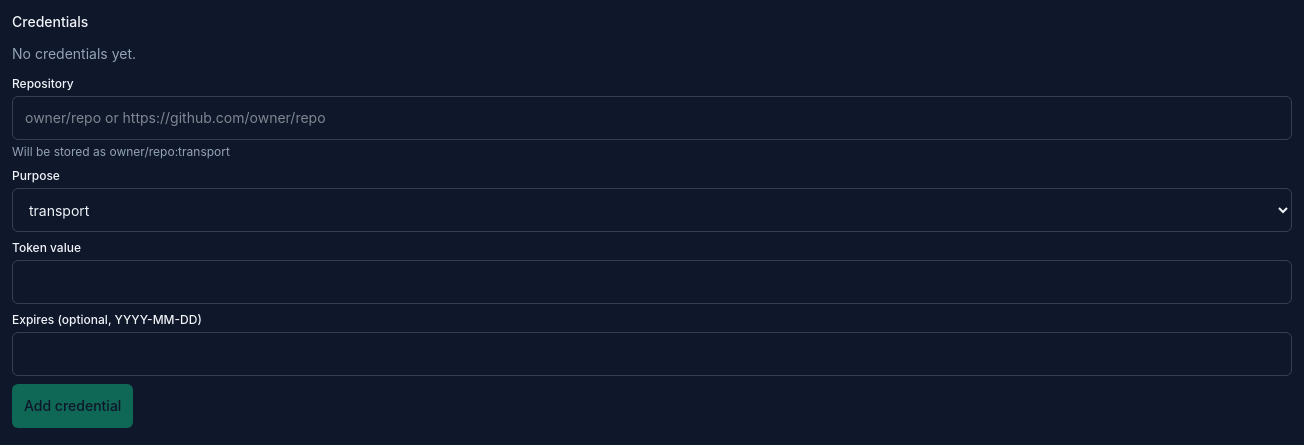
CredentialsSection › previews the record name live as the user types the repository field and switches purpose
The image size is (1304, 445).
Check: the text "No credentials yet." is shown, box x1=12 y1=45 x2=136 y2=62
Check: the message with test id "credential-preview" shows "owner/repo:transport", box x1=110 y1=144 x2=230 y2=159
In the field with test id "credential-engine-input": (652, 118) x1=12 y1=96 x2=1292 y2=140, type "acme/widget"
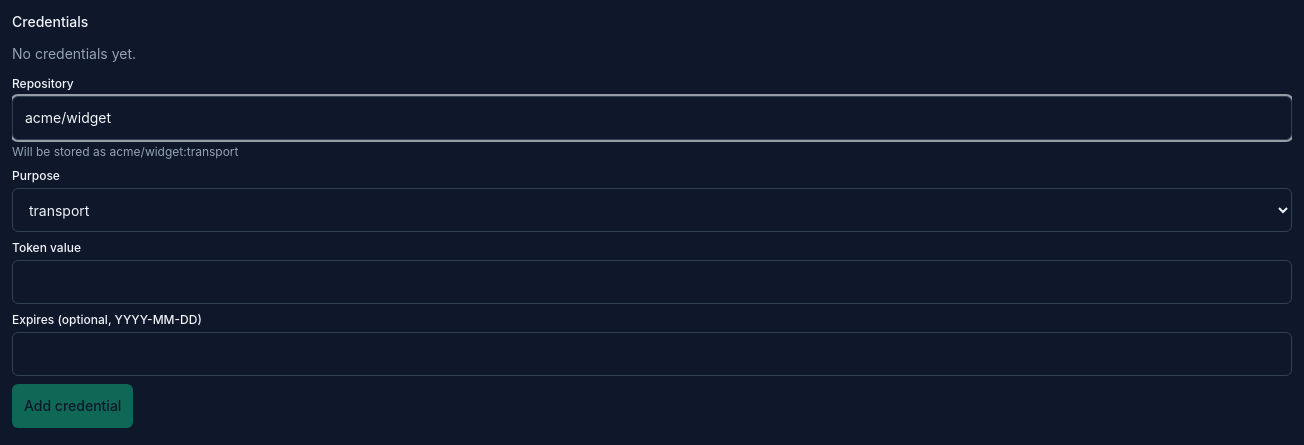
Check: the message with test id "credential-preview" shows "acme/widget:transport", box x1=110 y1=144 x2=238 y2=159
Select "reviewer" in the dropdown with test id "credential-purpose-select": (652, 210) x1=12 y1=188 x2=1292 y2=232
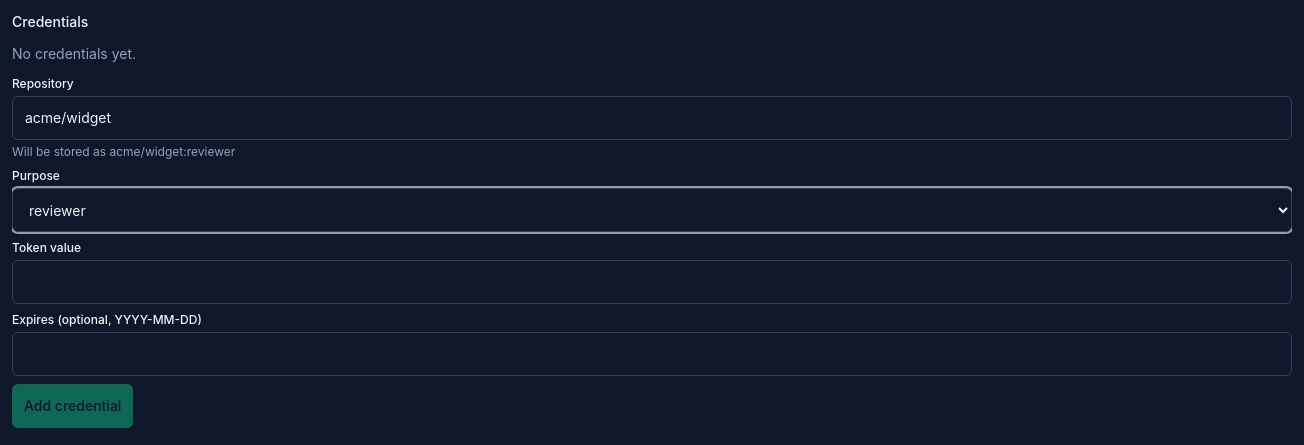
Check: the message with test id "credential-preview" shows "acme/widget:reviewer", box x1=110 y1=144 x2=235 y2=159
